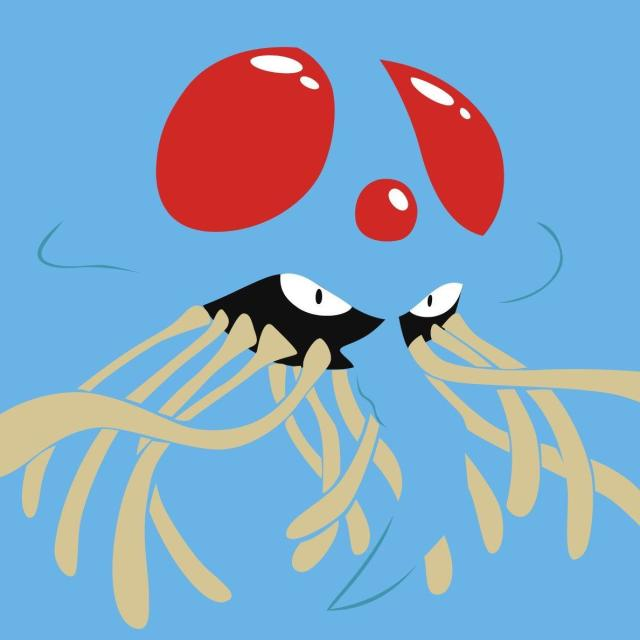Tentacruel: (38, 53, 561, 511)
